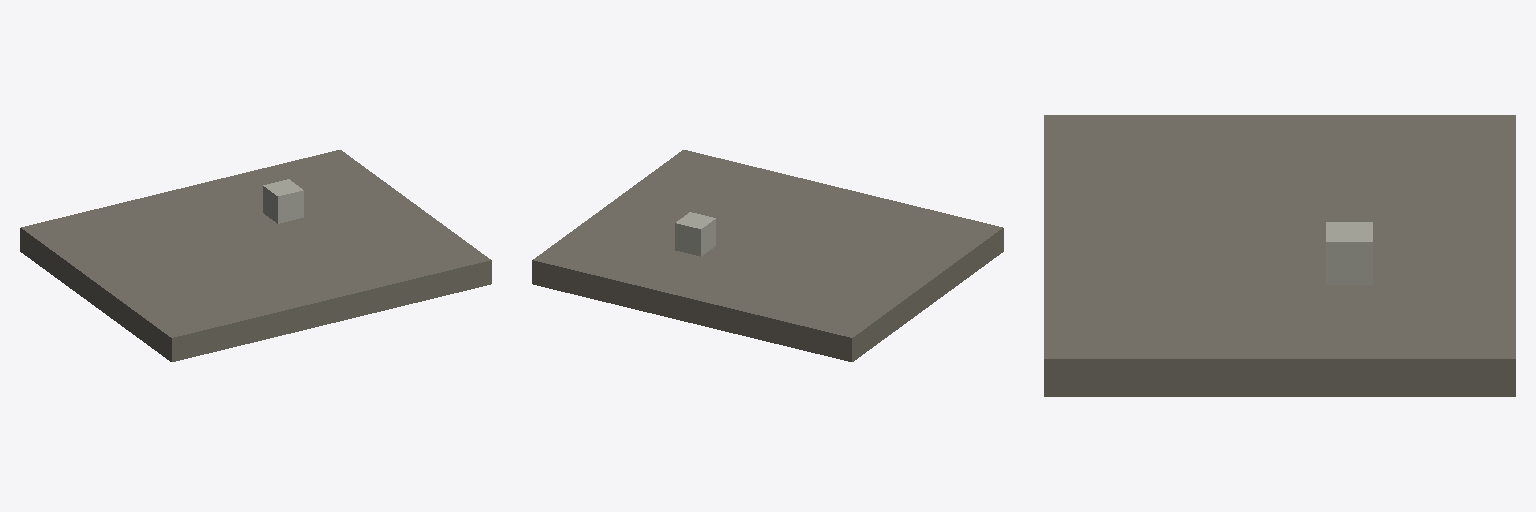
The robot description file, URDF, robot "parttoolgen_hammer_single_cube":
<?xml version="1.0"?>
<robot name="parttoolgen_hammer_single_cube">
  <link name="table_with_target_cube">
    <visual>
      <material name="wood">
        <color rgba="0.52 0.50 0.46 1.0"/>
      </material>
      <origin xyz="0 0 0"/>
      <geometry>
        <box size="0.55 0.45 0.04"/>
      </geometry>
    </visual>
    <collision>
      <origin xyz="0 0 0"/>
      <geometry>
        <box size="0.55 0.45 0.04"/>
      </geometry>
    </collision>

    <visual>
      <material name="target_cube">
        <color rgba="0.72 0.72 0.68 1.0"/>
      </material>
      <origin xyz="0.08577280733551057 0.06674996864686655 0.042499999999999996"/>
      <geometry>
        <box size="0.045 0.045 0.045"/>
      </geometry>
    </visual>
    <collision>
      <origin xyz="0.08577280733551057 0.06674996864686655 0.042499999999999996"/>
      <geometry>
        <box size="0.045 0.045 0.045"/>
      </geometry>
    </collision>

    <inertial>
      <mass value="500"/>
      <friction value="1.0"/>
      <inertia ixx="1000.0" ixy="0.0" ixz="0.0" iyy="1000.0" iyz="0.0" izz="1000.0"/>
    </inertial>
  </link>
</robot>

--- What the picture shows (computed from the rendered views, not written in the file) ---
Views: 3 orthographic renders of the robot side by side, from view 1: azimuth 30°, elevation 25°; view 2: azimuth 150°, elevation 25°; view 3: azimuth 270°, elevation 25°.
Model parttoolgen_hammer_single_cube with 1 links and 0 joints (none), rooted at table_with_target_cube, posed every joint at zero.
Links seen in each view (by area): view 1: table_with_target_cube; view 2: table_with_target_cube; view 3: table_with_target_cube.
Link boxes in pixels (<box>): table_with_target_cube: <box>20,150,491,361</box>; table_with_target_cube: <box>532,150,1003,361</box>; table_with_target_cube: <box>1044,115,1515,396</box>.
Size in the robot's own frame: 0.55 by 0.45 by 0.085 metres.
Geometry: primitives only (box / cylinder / sphere), no mesh files.
